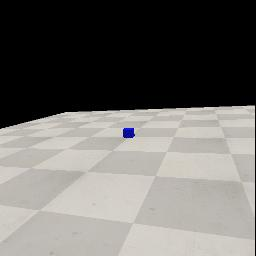box: (123, 128, 135, 138)
